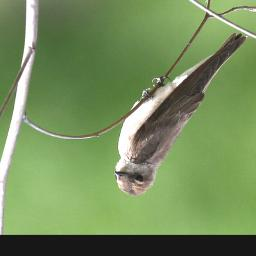Swallow: (113, 31, 251, 197)
